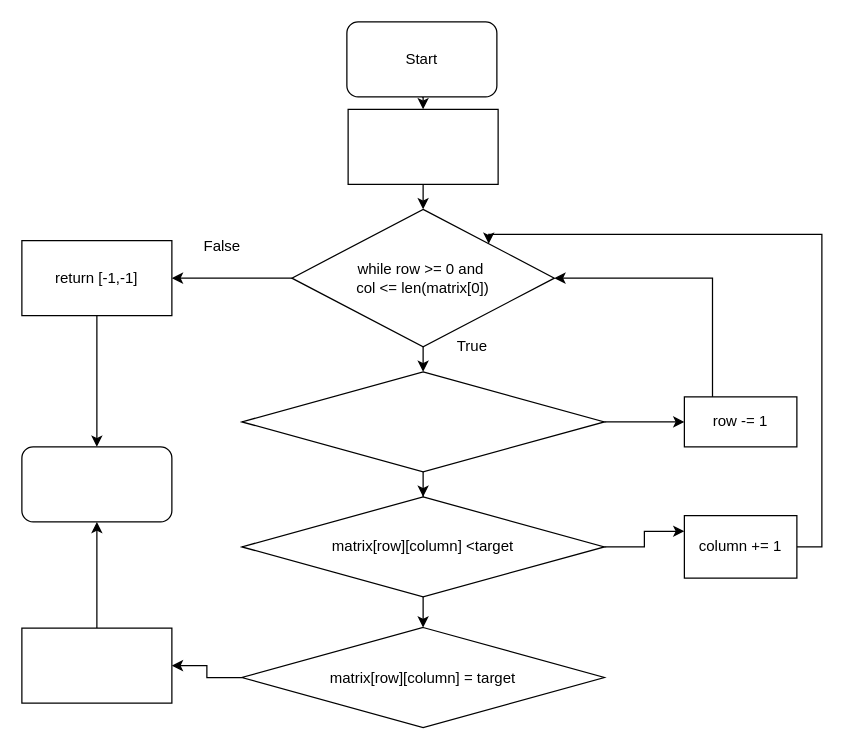
This 854x750 diagram has some shape labels left out. Here are the shapes that lost their labels. From the top down, the centre of each, then its label:
(x=422, y=146): row = len(matrix-1) col = 0
(x=422, y=421): matrix[row][column] > target
(x=96, y=484): End
(x=96, y=665): return [row,column]
